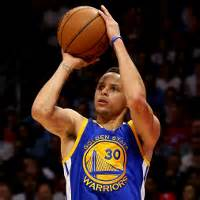basketball: (57, 6, 108, 57)
